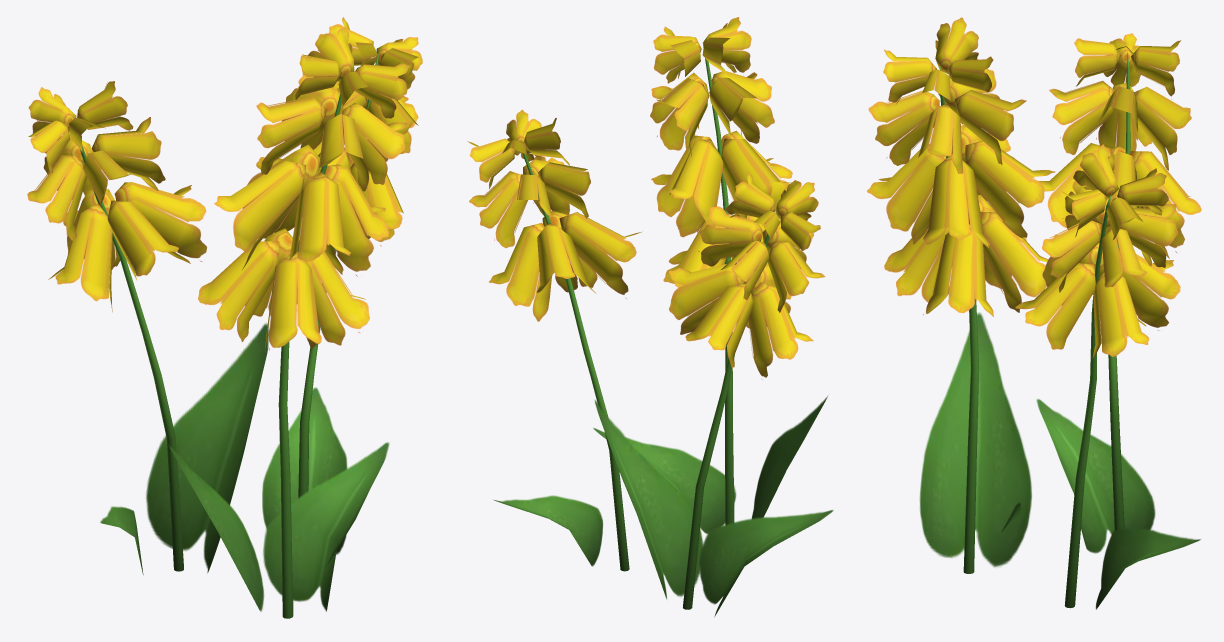
The model's file is n_flower_group1.glb.
The picture shows the model from 3 angles, left to right: view 1: azimuth 30°, elevation 25°; view 2: azimuth 150°, elevation 25°; view 3: azimuth 270°, elevation 25°; orthographic projection. The views are drawn at different scales.
Visible parts, largest first — view 1: Flower_4_Group; view 2: Flower_4_Group; view 3: Flower_4_Group.
Boxes of the visible parts, x1=… form: Flower_4_Group: x1=27, y1=17, x2=422, y2=618; Flower_4_Group: x1=467, y1=17, x2=833, y2=616; Flower_4_Group: x1=867, y1=17, x2=1201, y2=609.
Size of the model in its own units: 1.78 by 2.49 by 1.37.
Materials: 2 (2 with a texture image).
